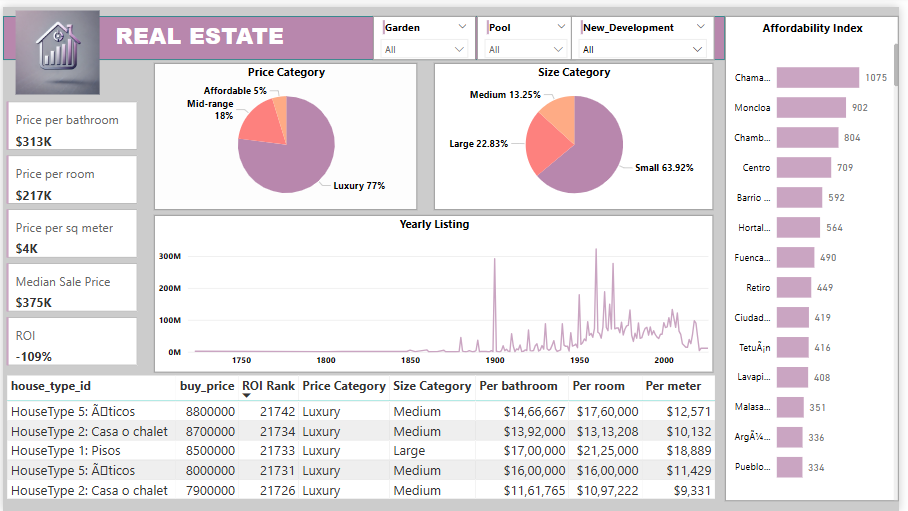

The page's visual inventory and layout, read from the dashboard file:
{"tool":"powerbi","page":{"name":"Page 1","canvas":[1280,720],"ordinal":0},"visuals":[{"type":"shape","box":[0,12.9,1031.2,62.9],"z":0},{"type":"cardVisual","fields":{"Data":["Madrid Real Estate.Price per bathroom","Madrid Real Estate.Price per room","Madrid Real Estate.Price per sq meter","Madrid Real Estate.Median Sale Price","Madrid Real Estate.ROI"]},"box":[0,130.1,197.4,391.9],"z":1000},{"type":"barChart","title":"   Affordability Index ","fields":{"Y":["Madrid Real Estate.Affordability Index"],"Category":["Madrid Real Estate.City"]},"box":[1031.8,12.8,248,693.1],"z":2000},{"type":"pieChart","title":"Price Category","fields":{"Category":["Madrid Real Estate.Category by price"],"Y":["Count(Madrid Real Estate.buy_price)"]},"box":[216,80.1,376.1,210.2],"z":3000},{"type":"pieChart","title":"Size Category","fields":{"Category":["Madrid Real Estate.Size Category"],"Y":["Count(Madrid Real Estate.sq_mt_built)"]},"box":[616.4,80.1,399,210.2],"z":4000},{"type":"lineChart","title":"Yearly Listing","fields":{"Category":["Madrid Real Estate.built_year"],"Y":["Sum(Madrid Real Estate.buy_price)"]},"box":[216,297.5,799.5,224.5],"z":5000},{"type":"slicer","fields":{"Values":["Madrid Real Estate.Garden"]},"box":[529.2,12.9,147.3,62.9],"z":6000},{"type":"slicer","fields":{"Values":["Madrid Real Estate.Pool"]},"box":[676.5,12.9,140.2,62.9],"z":7000},{"type":"slicer","fields":{"Values":["Madrid Real Estate.New_Development"]},"box":[810.9,12.9,204.5,62.9],"z":8000},{"type":"tableEx","fields":{"Values":["Madrid Real Estate.house_type_id","Madrid Real Estate.buy_price","Madrid Real Estate.Rank by ROI","Madrid Real Estate.Price Category","Madrid Real Estate.Size Category","Madrid Real Estate.Price per bathroom","Madrid Real Estate.Price per room","Madrid Real Estate.Price per sq meter"]},"box":[0,522,1031.2,198.8],"z":9000},{"type":"textbox","box":[155.9,12.9,300.3,67.2],"z":10000},{"type":"image","box":[0,0,155.9,130.4],"z":11000}]}

Visuals, with their boxes in screenshot pixels (x1, y1, x2, y2), scaled from the page's 1280x720 canvas onto the 908x511 screenshot:
shape: rect(0, 9, 732, 54)
cardVisual - Madrid Real Estate.Price per bathroom x Madrid Real Estate.Price per room: rect(0, 92, 140, 370)
"   Affordability Index " barChart: rect(732, 9, 907, 501)
"Price Category" pieChart: rect(153, 57, 420, 206)
"Size Category" pieChart: rect(437, 57, 720, 206)
"Yearly Listing" lineChart: rect(153, 211, 720, 370)
slicer - Madrid Real Estate.Garden: rect(375, 9, 480, 54)
slicer - Madrid Real Estate.Pool: rect(480, 9, 579, 54)
slicer - Madrid Real Estate.New_Development: rect(575, 9, 720, 54)
tableEx - Madrid Real Estate.house_type_id x Madrid Real Estate.buy_price: rect(0, 370, 732, 510)
textbox: rect(111, 9, 324, 57)
image: rect(0, 0, 111, 93)
